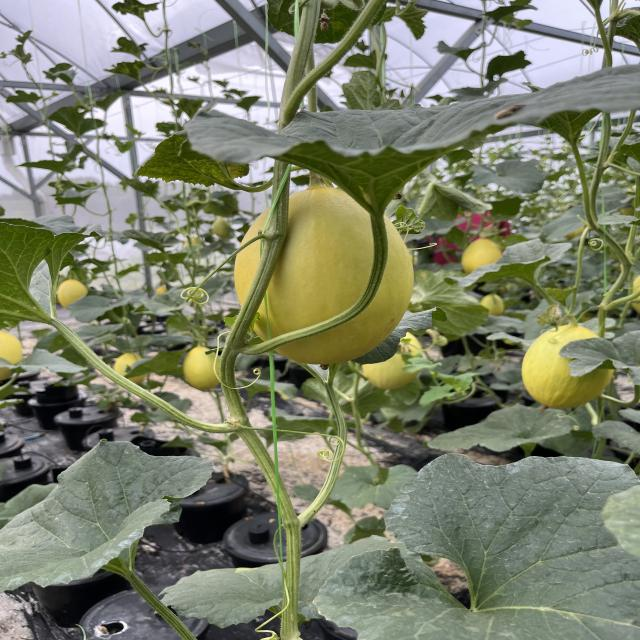downy mildew: (366, 449, 640, 640), (0, 432, 216, 596), (137, 137, 245, 187), (557, 336, 640, 384)
healthy: (171, 60, 627, 234), (184, 564, 320, 632)
